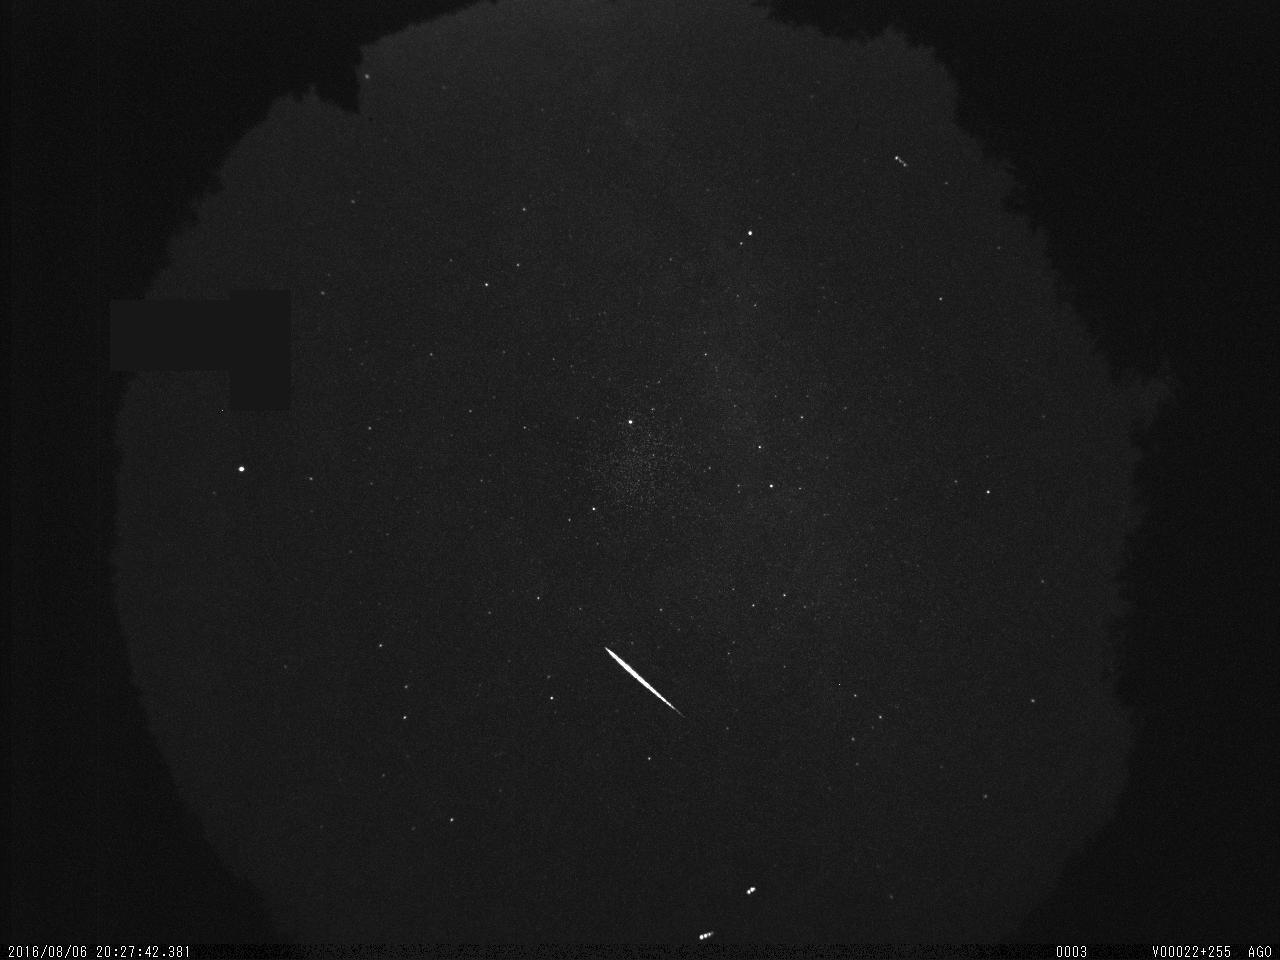meteor: (597, 639, 688, 726)
satelite: (886, 143, 917, 176), (740, 876, 763, 906), (693, 926, 719, 945)
